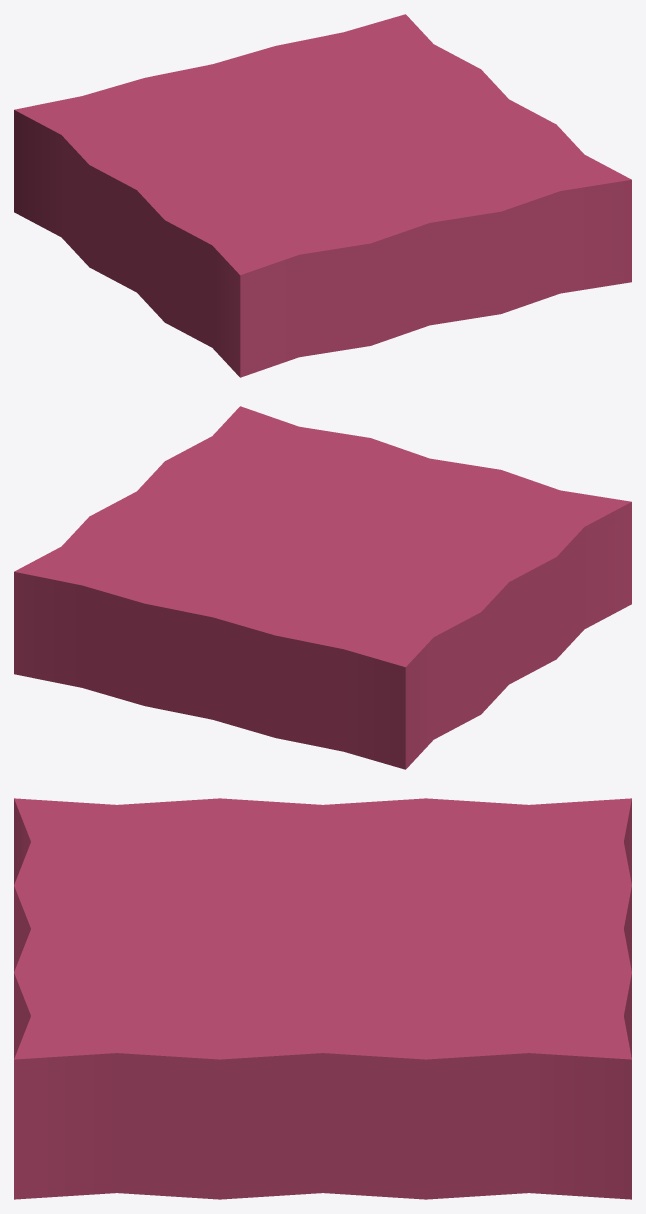
Rendered from jaggeredTile-17a_col_001.fbx.
3 renders of one model, top to bottom at view 1: azimuth 30°, elevation 25°; view 2: azimuth 150°, elevation 25°; view 3: azimuth 270°, elevation 25°, orthographic. The views are drawn at different scales.
Parts seen in each view (by area): view 1: jaggeredTile-17a.col.001; view 2: jaggeredTile-17a.col.001; view 3: jaggeredTile-17a.col.001.
Part boxes in pixels (box(x1,y1,x2,y2)): jaggeredTile-17a.col.001: box(14, 14, 631, 377); jaggeredTile-17a.col.001: box(14, 406, 631, 769); jaggeredTile-17a.col.001: box(14, 798, 631, 1199).
Size of the model in its own units: 2 by 0.5 by 2.
Materials: 1 (1 with a texture image).
